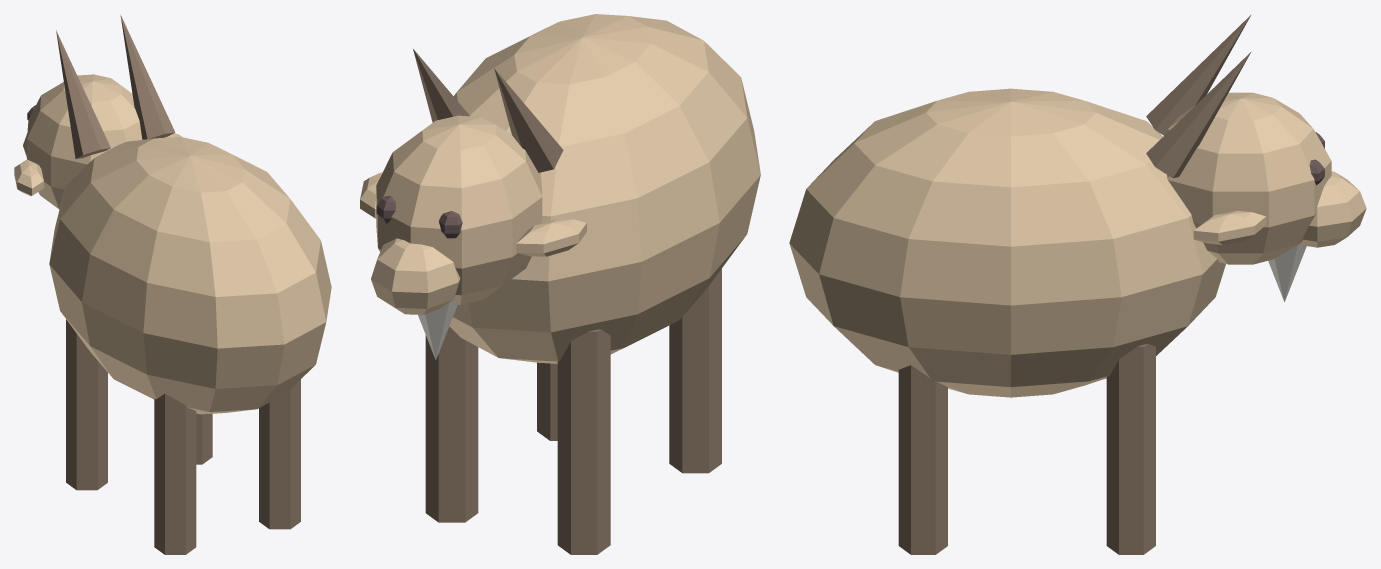
Rendered from goat.glb.
The picture shows the model from 3 angles, left to right: view 1: azimuth 30°, elevation 25°; view 2: azimuth 150°, elevation 25°; view 3: azimuth 270°, elevation 25°; orthographic projection. The views are drawn at different scales.
Visible parts, largest first — view 1: goat; view 2: goat; view 3: goat.
Part boxes in pixels (x1,y1,x2,y2): goat: (14, 15, 331, 554); goat: (360, 14, 760, 554); goat: (789, 14, 1366, 554).
Size of the model in its own units: 0.54 by 0.9747 by 1.05.
